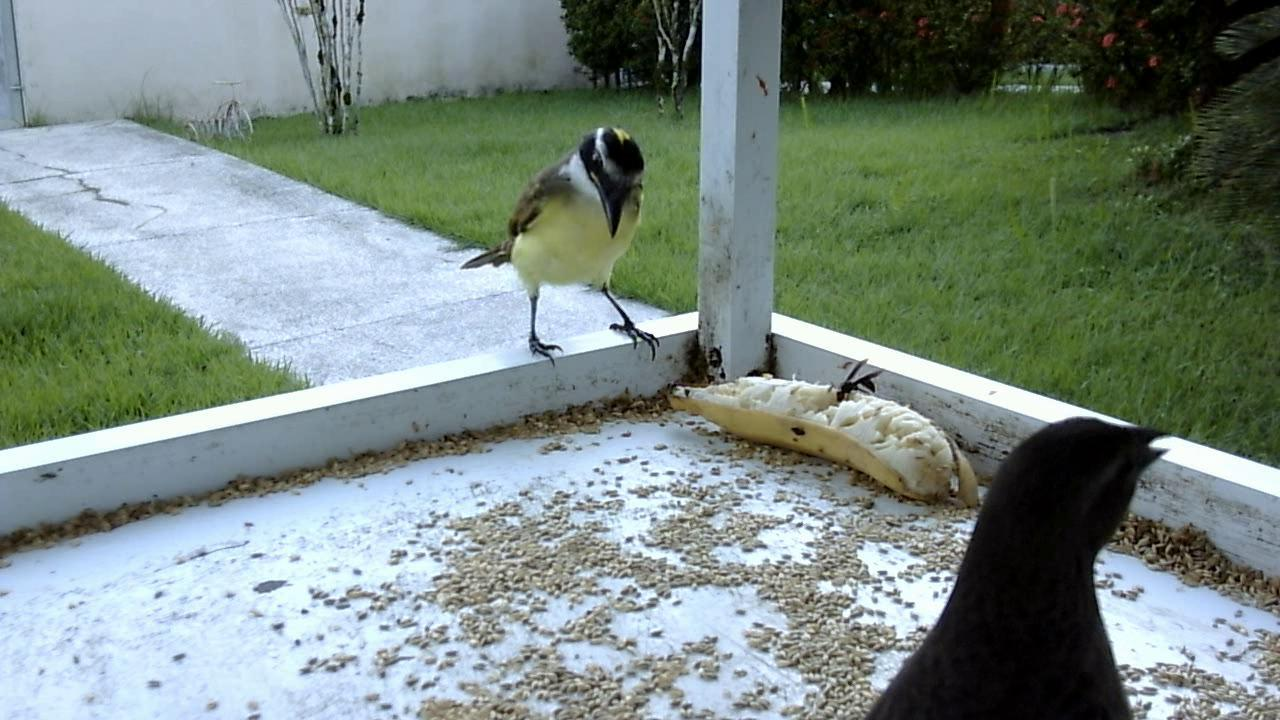bem_te_vi: (446, 118, 663, 381)
chupim: (841, 398, 1180, 715)
